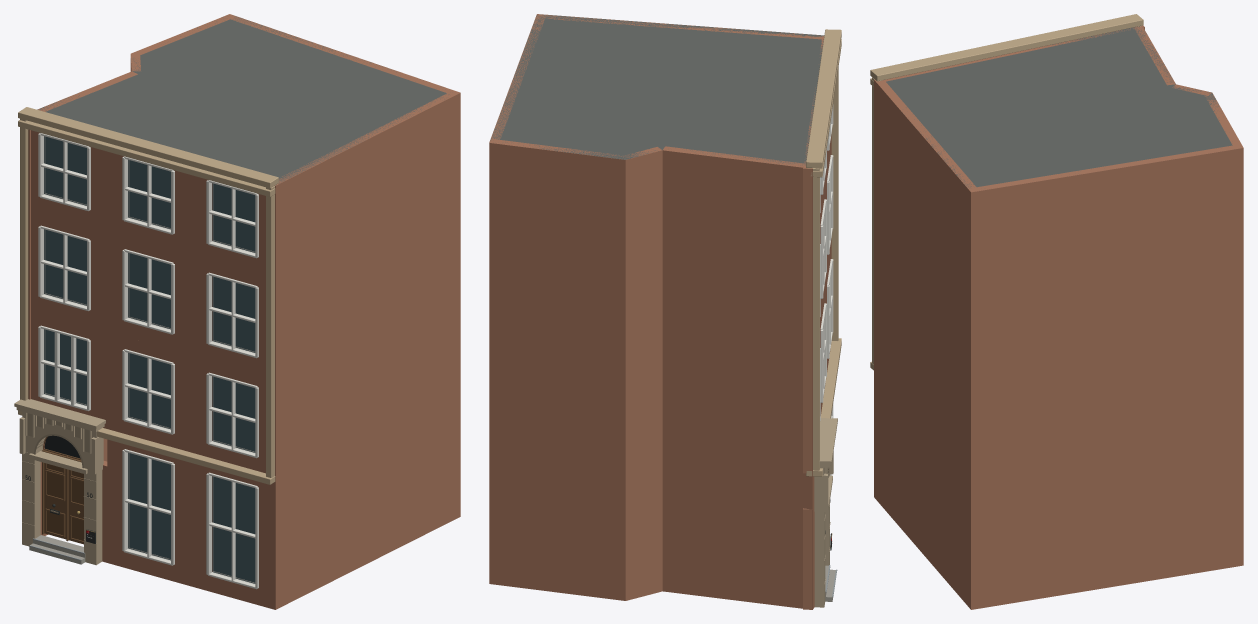
The model's file is 50l-exterior-a53fff48db75.glb.
3 renders of one model, left to right at view 1: azimuth 30°, elevation 25°; view 2: azimuth 150°, elevation 25°; view 3: azimuth 270°, elevation 25°, orthographic. The views are drawn at different scales.
Parts seen in each view (by area): view 1: 50L.001; view 2: 50L.001; view 3: 50L.001.
Boxes of the visible parts, x1=… form: 50L.001: x1=14, y1=14, x2=460, y2=609; 50L.001: x1=489, y1=14, x2=841, y2=609; 50L.001: x1=870, y1=14, x2=1243, y2=609.
Bounding box in the file's own units: 11.07 × 12.48 × 9.97.
